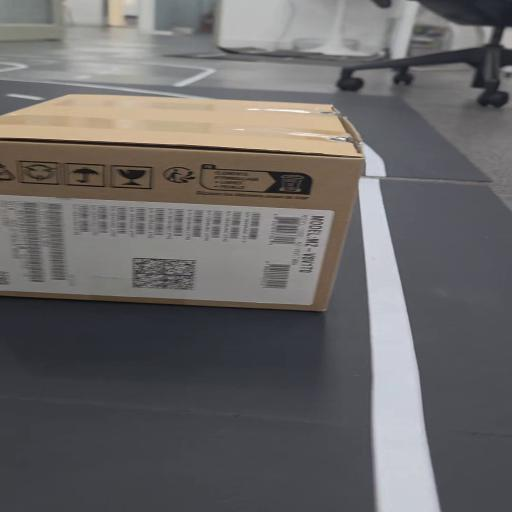Box: (0, 94, 370, 326)
